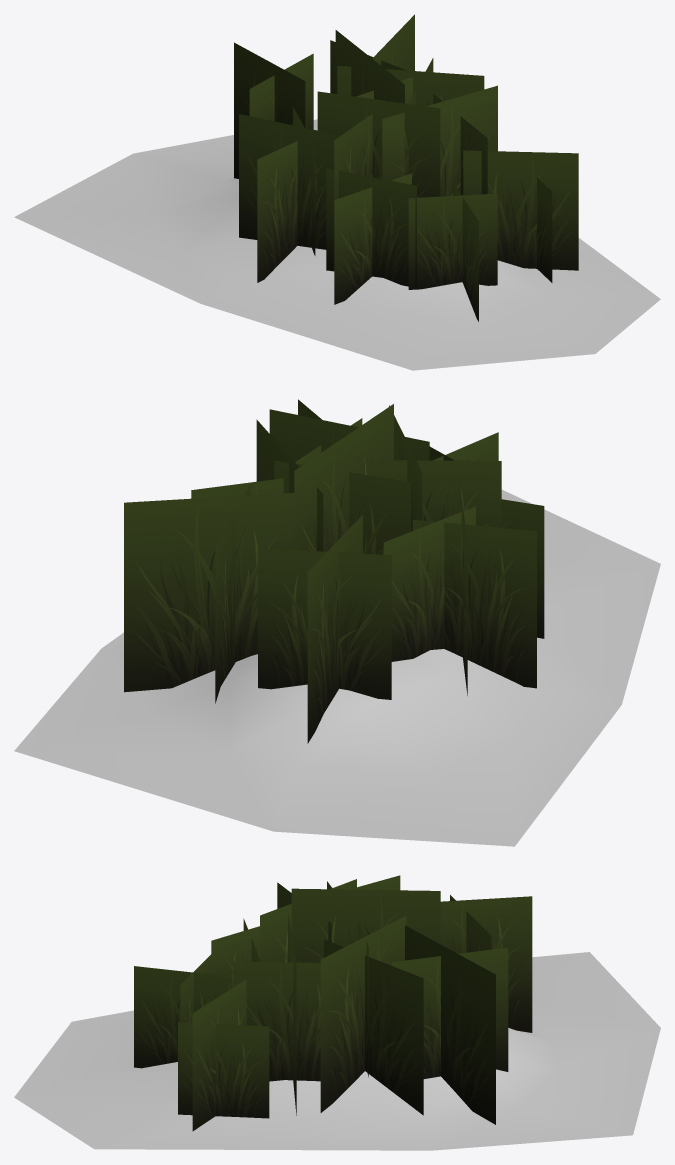
Rendered from Soil_Grass_01.fbx.
The picture shows the model from 3 angles, top to bottom: view 1: azimuth 30°, elevation 25°; view 2: azimuth 150°, elevation 25°; view 3: azimuth 270°, elevation 25°; orthographic projection. The views are drawn at different scales.
Parts seen in each view (by area): view 1: Soil_Grass_01; view 2: Soil_Grass_01; view 3: Soil_Grass_01.
Part boxes in pixels (x1,y1,x2,y2): Soil_Grass_01: (14, 14, 660, 370); Soil_Grass_01: (14, 399, 660, 846); Soil_Grass_01: (14, 875, 660, 1150).
Size of the model in its own units: 3.93 by 5.4 by 1.79.
